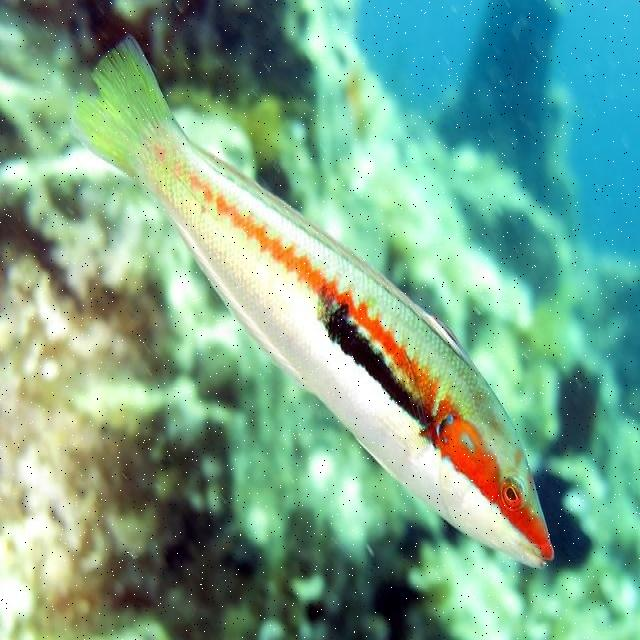fish: (68, 35, 555, 565)
